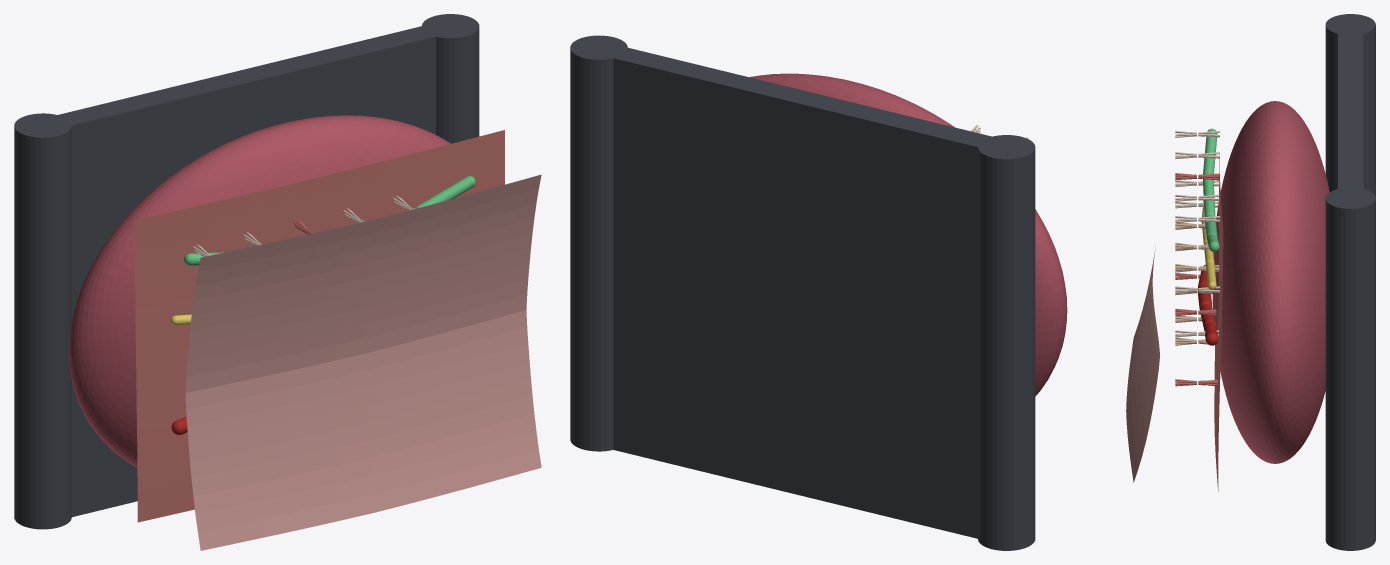
Rendered from dranmar_safeplane_tissue_blunt.glb.
3 renders of one model, left to right at view 1: azimuth 30°, elevation 25°; view 2: azimuth 150°, elevation 25°; view 3: azimuth 270°, elevation 25°, orthographic. The views are drawn at different scales.
Visible parts, largest first — view 1: SuperficialFlap, Fixture, TargetBed, ProtectedOrgan, DuctRight; view 2: Fixture, ProtectedOrgan; view 3: ProtectedOrgan, Fixture, SuperficialFlap, TargetBed, DuctLeft, VesselRight, NerveRight, DuctRight, VesselLeft.
Boxes of the visible parts, bbox=[...] form: SuperficialFlap: bbox=[185, 174, 541, 550]; Fixture: bbox=[14, 14, 479, 529]; TargetBed: bbox=[134, 130, 504, 522]; ProtectedOrgan: bbox=[69, 115, 450, 467]; DuctRight: bbox=[413, 176, 475, 208]; Fixture: bbox=[570, 35, 1035, 550]; ProtectedOrgan: bbox=[749, 73, 1067, 396]; ProtectedOrgan: bbox=[1212, 101, 1329, 463]; Fixture: bbox=[1325, 14, 1375, 550]; SuperficialFlap: bbox=[1126, 247, 1159, 482]; TargetBed: bbox=[1214, 158, 1223, 491]; DuctLeft: bbox=[1203, 128, 1217, 216]; VesselRight: bbox=[1200, 304, 1218, 345]; NerveRight: bbox=[1204, 241, 1216, 289]; DuctRight: bbox=[1205, 215, 1219, 251]; VesselLeft: bbox=[1197, 264, 1212, 309].
Bounding box in the file's own units: 0.22 × 0.18 × 0.1191.
